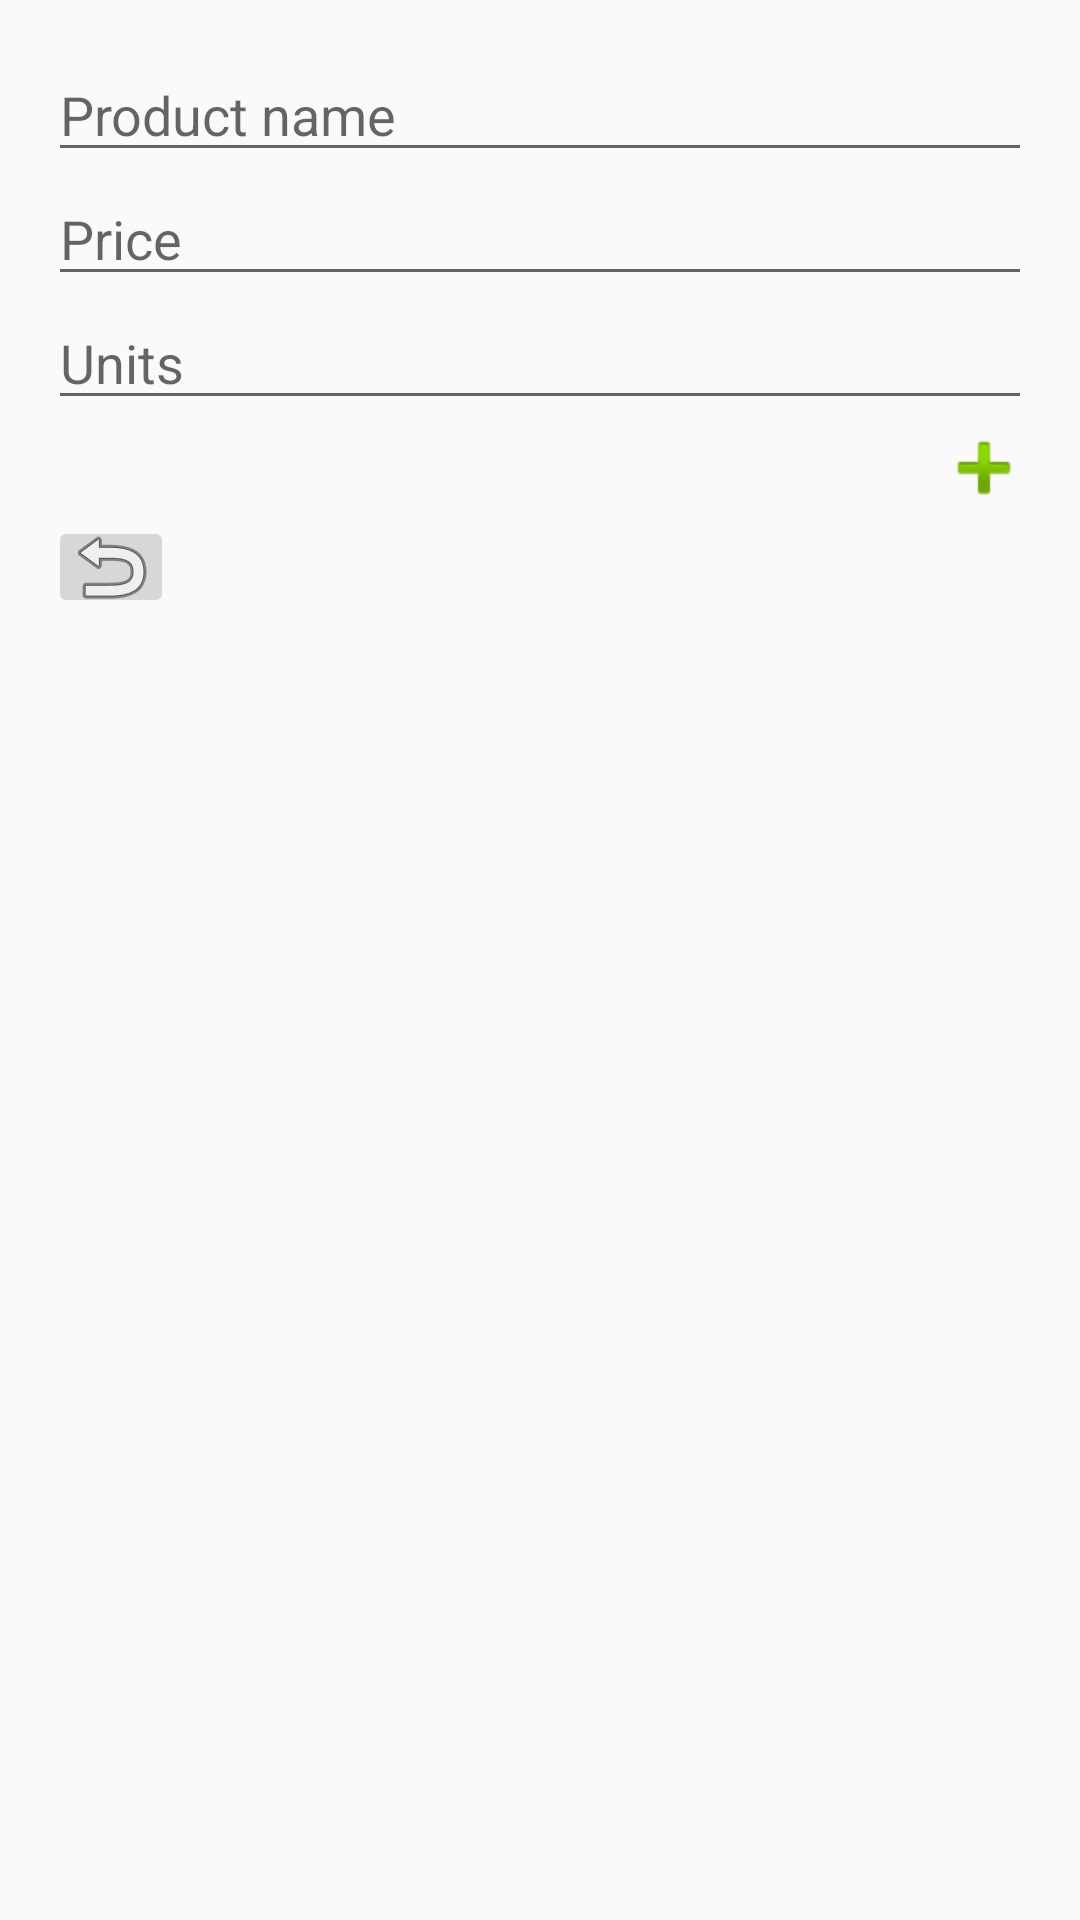

Icons on this 1080 × 1920 Android screen, each with its box as (x1, y1, x2, y2):
Add product: (957, 441, 1011, 495)
Undo last deleted: (60, 534, 162, 600)
